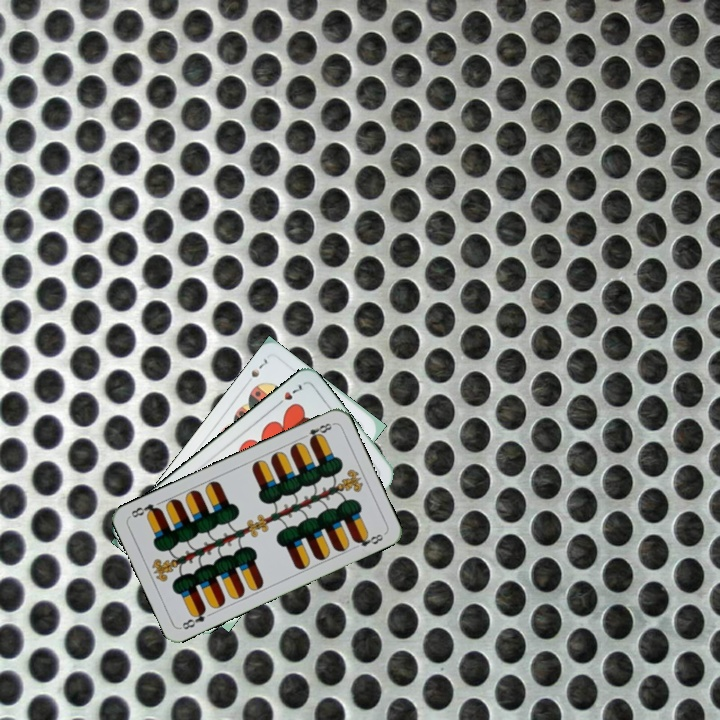E8: (297, 419, 336, 444), (177, 604, 209, 632)
H7: (272, 380, 305, 409)
S7: (247, 354, 270, 380)
